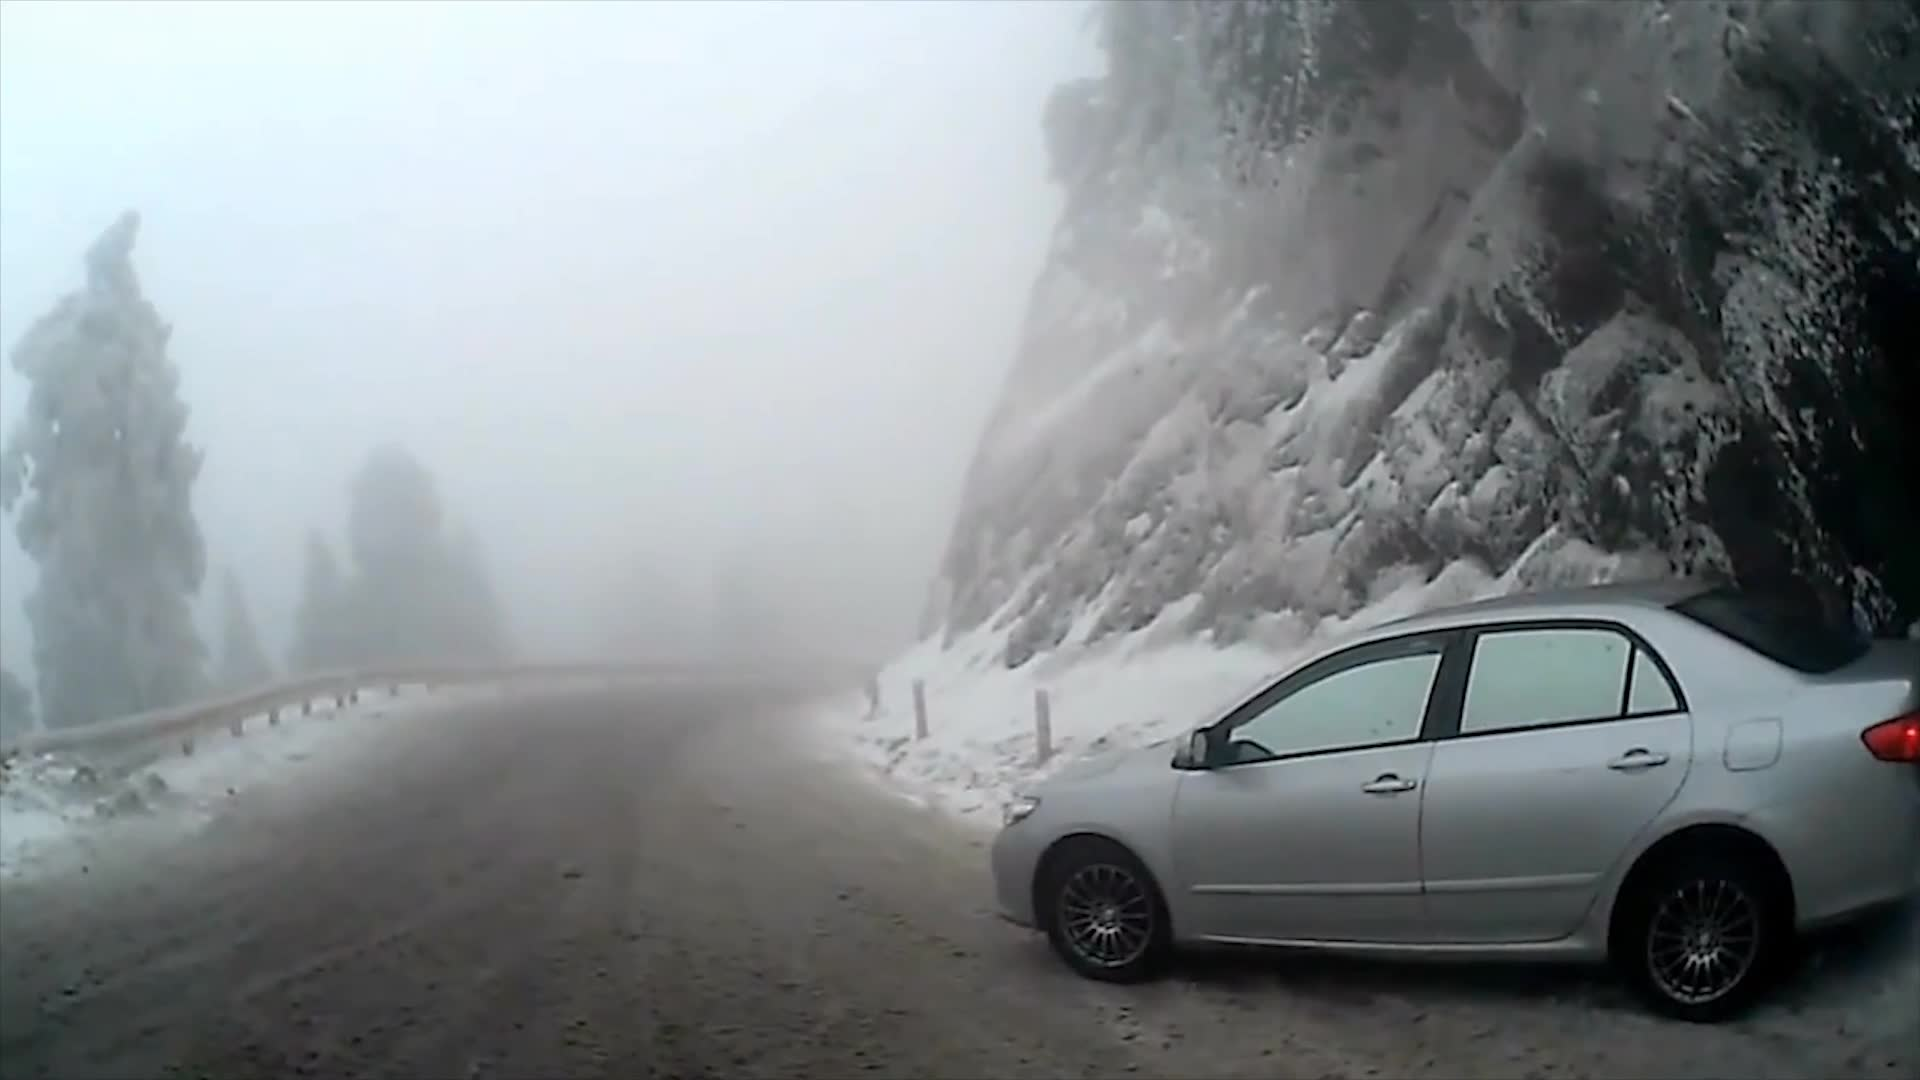vehicle: (990, 578, 1920, 1026)
